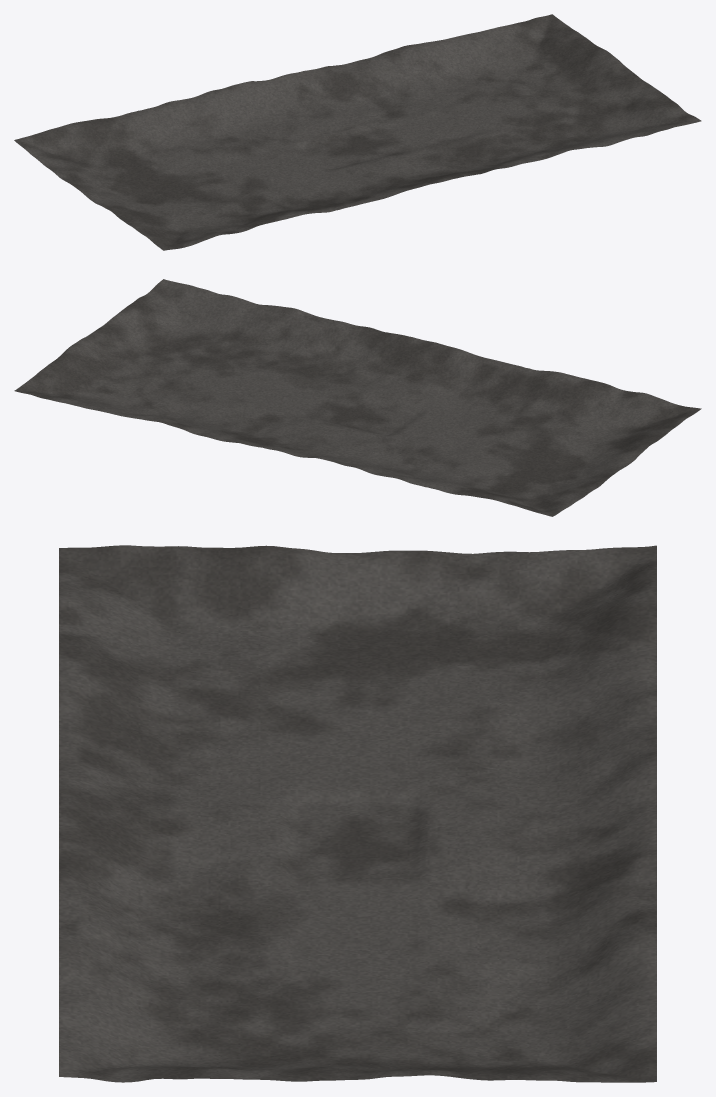
Rendered from SM_Art_Terrain_L_MemoryOfABrother.gltf.
The picture shows the model from 3 angles, top to bottom: view 1: azimuth 30°, elevation 25°; view 2: azimuth 150°, elevation 25°; view 3: azimuth 270°, elevation 25°; orthographic projection. The views are drawn at different scales.
Parts seen in each view (by area): view 1: SM_Art_Terrain_L_MemoryOfABrother; view 2: SM_Art_Terrain_L_MemoryOfABrother; view 3: SM_Art_Terrain_L_MemoryOfABrother.
Boxes of the visible parts, <box> form: SM_Art_Terrain_L_MemoryOfABrother: <box>14,14,701,250</box>; SM_Art_Terrain_L_MemoryOfABrother: <box>14,279,701,516</box>; SM_Art_Terrain_L_MemoryOfABrother: <box>59,545,656,1082</box>.
Bounding box in the file's own units: 312 × 13.06 × 150.
Materials: 1 (1 with a texture image).
